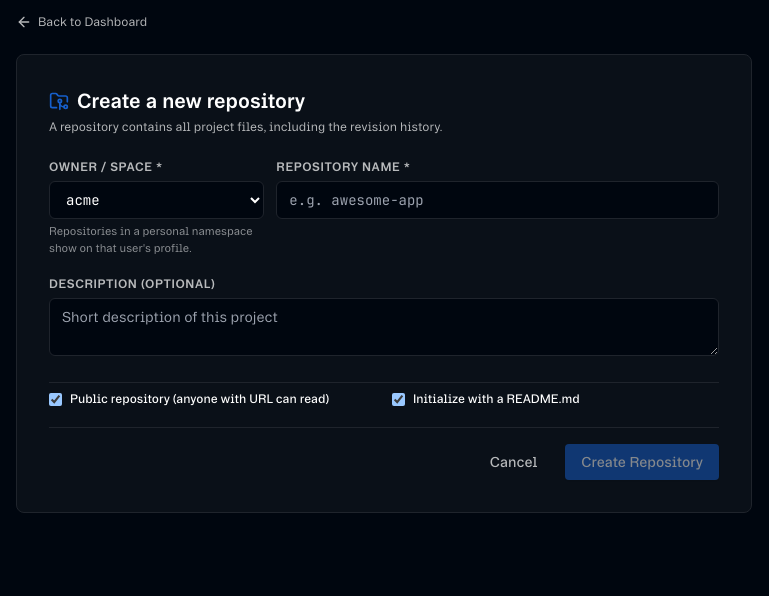
Test: NewRepo › shows an error when creation fails
Type "website" into the field with placeholder "e.g. awesome-app".
click(498, 200); type("website")  # box [276, 181, 719, 219]
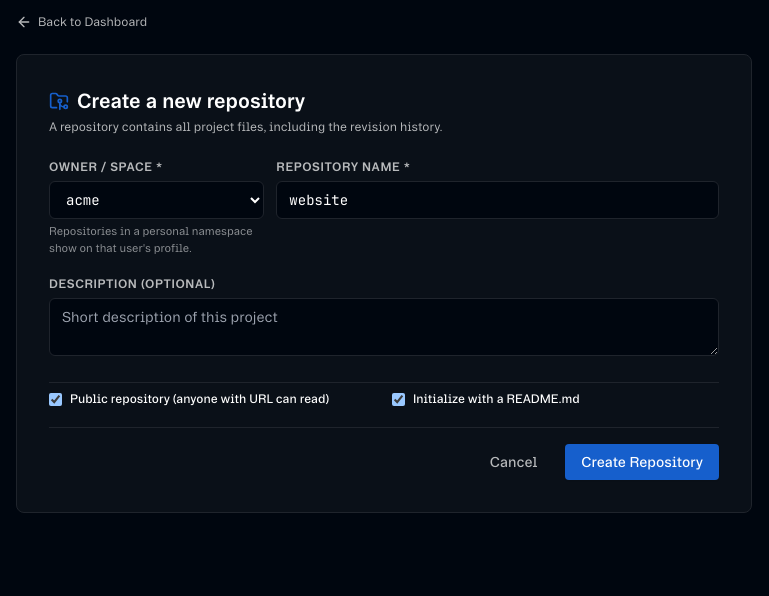
Click the button "Create Repository".
click(642, 462)  # box [565, 444, 719, 480]
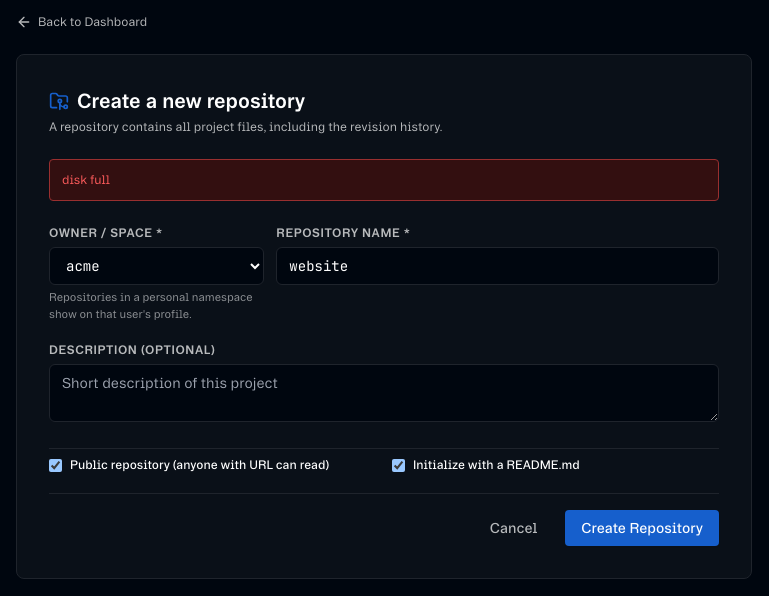
Expected: the text "disk full" is shown, [49, 159, 719, 201]
